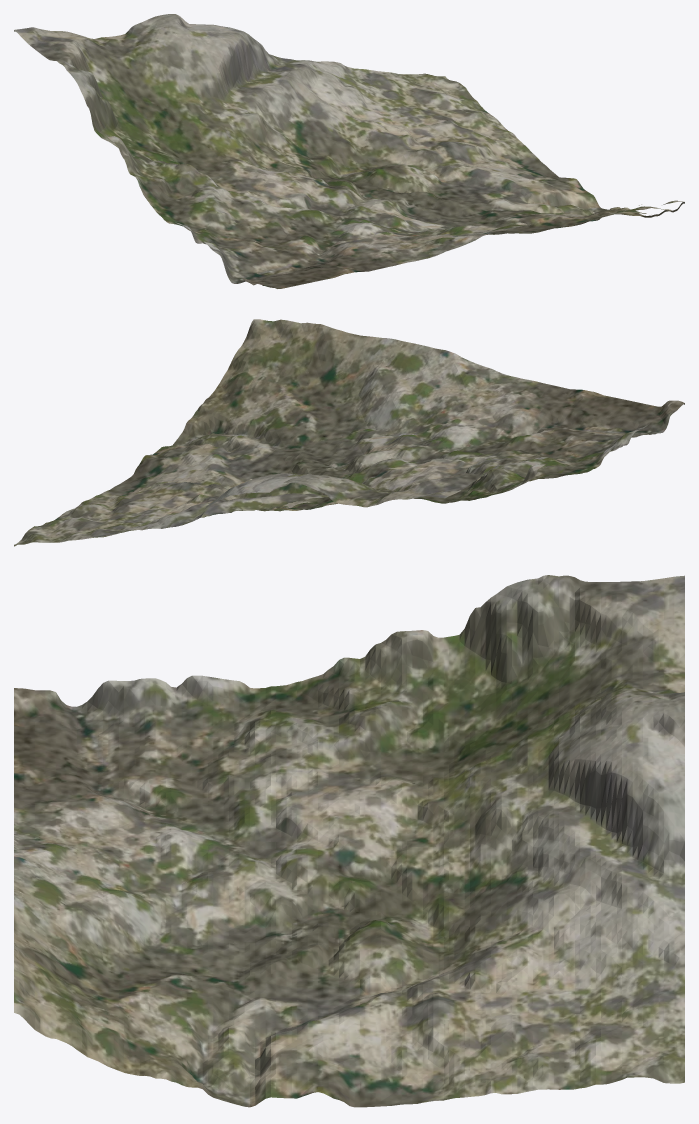
The picture shows the model from 3 angles, top to bottom: view 1: azimuth 30°, elevation 25°; view 2: azimuth 150°, elevation 25°; view 3: azimuth 270°, elevation 25°; orthographic projection. The views are drawn at different scales.
Size of the model in its own units: 250 by 95.11 by 241.
Materials: 1 (1 with a texture image).
